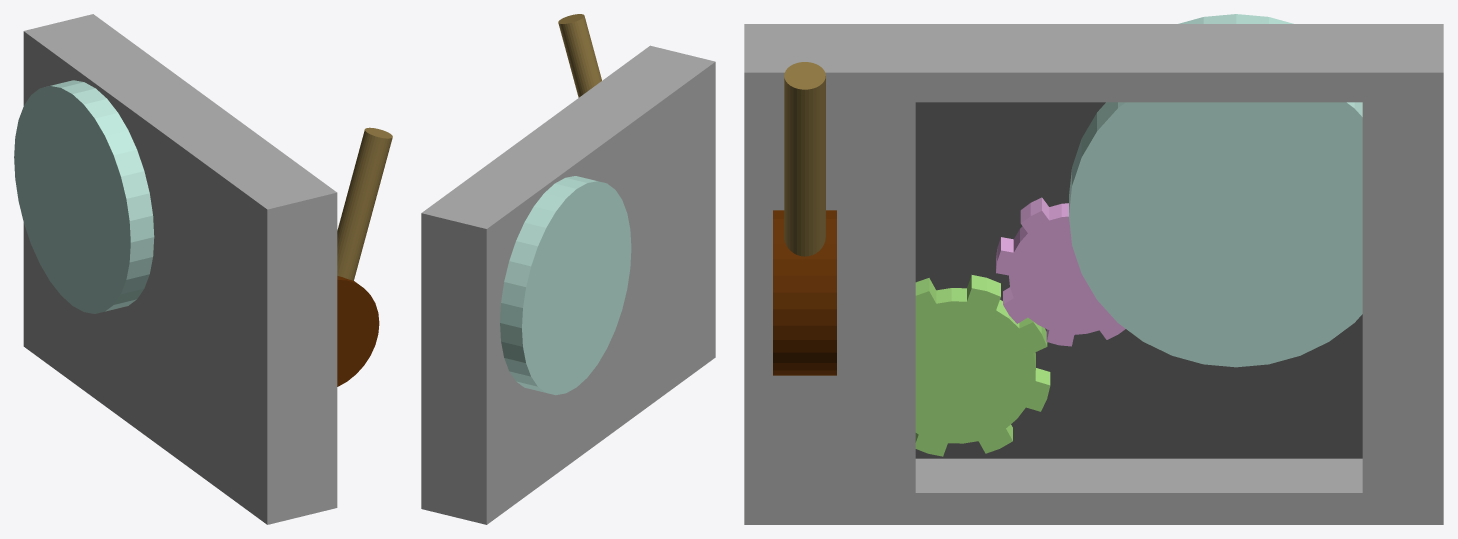
Rendered from Generator.glb.
3 renders of one model, left to right at view 1: azimuth 30°, elevation 25°; view 2: azimuth 150°, elevation 25°; view 3: azimuth 270°, elevation 25°, orthographic. The views are drawn at different scales.
Parts seen in each view (by area): view 1: Cube, Cylinder.001, Cylinder.003, Cylinder.004; view 2: Cube, Cylinder.001, Cylinder.003; view 3: Cube, Cylinder.001, Cylinder, Cylinder.002, Cylinder.004, Cylinder.003.
Boxes of the visible parts, left/top/right/bottom form: Cube: left=23, top=14, right=337, bottom=524; Cylinder.001: left=14, top=80, right=154, bottom=313; Cylinder.003: left=337, top=127, right=392, bottom=280; Cylinder.004: left=337, top=276, right=379, bottom=386; Cube: left=421, top=45, right=715, bottom=524; Cylinder.001: left=500, top=176, right=631, bottom=395; Cylinder.003: left=558, top=14, right=601, bottom=97; Cube: left=744, top=24, right=1443, bottom=524; Cylinder.001: left=1069, top=14, right=1362, bottom=367; Cylinder: left=915, top=275, right=1050, bottom=456; Cylinder.002: left=996, top=197, right=1125, bottom=346; Cylinder.004: left=773, top=210, right=836, bottom=375; Cylinder.003: left=784, top=62, right=825, bottom=256.
Bounding box in the file's own units: 2.13 × 4.21 × 5.36.
